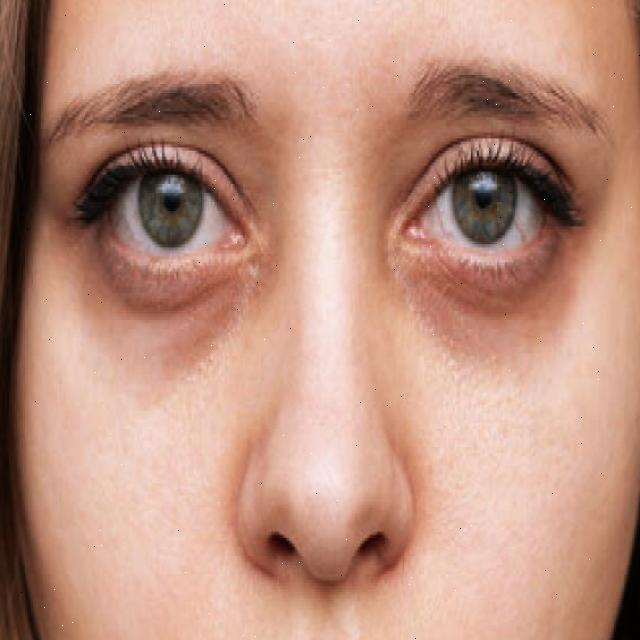puffy_eyes: (93, 235, 254, 361), (410, 248, 567, 370)
